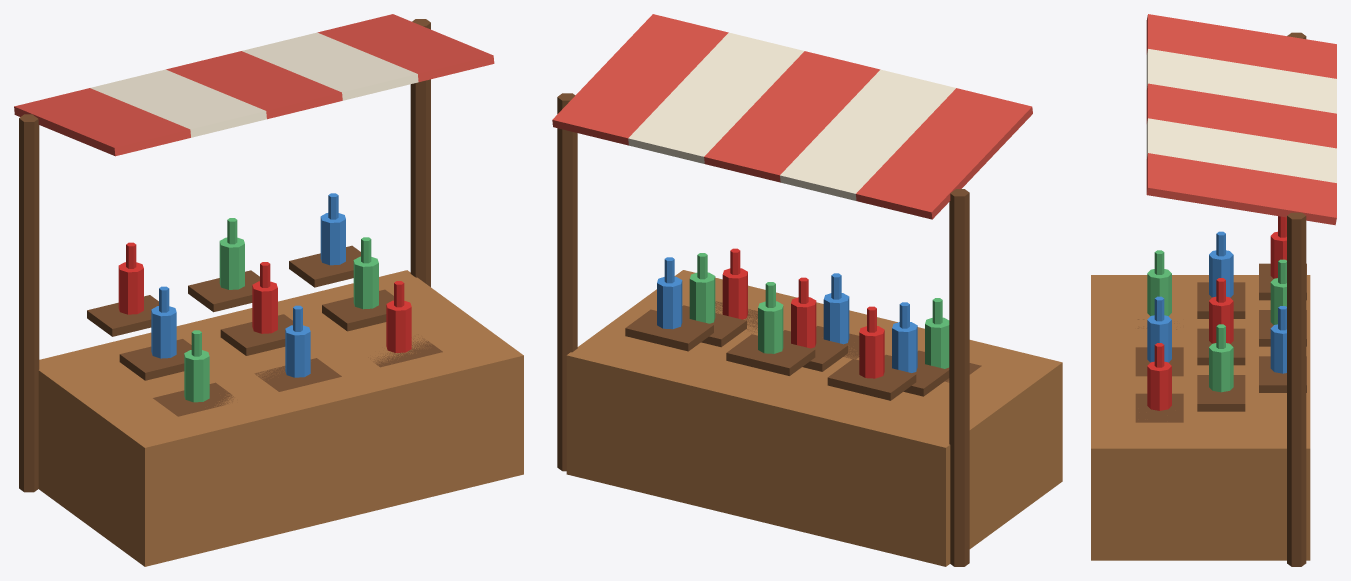
File: ring_toss_booth.glb
3 views of the same model, side by side, from view 1: azimuth 30°, elevation 25°; view 2: azimuth 150°, elevation 25°; view 3: azimuth 270°, elevation 25° (orthographic). The views are drawn at different scales.
Parts seen in each view (by area): view 1: ring_toss_booth; view 2: ring_toss_booth; view 3: ring_toss_booth.
Part boxes in pixels (x1,y1,x2,y2): ring_toss_booth: (14, 14, 523, 566); ring_toss_booth: (552, 14, 1062, 566); ring_toss_booth: (1091, 14, 1336, 566).
Size of the model in its own units: 3.22 by 3 by 1.79.
